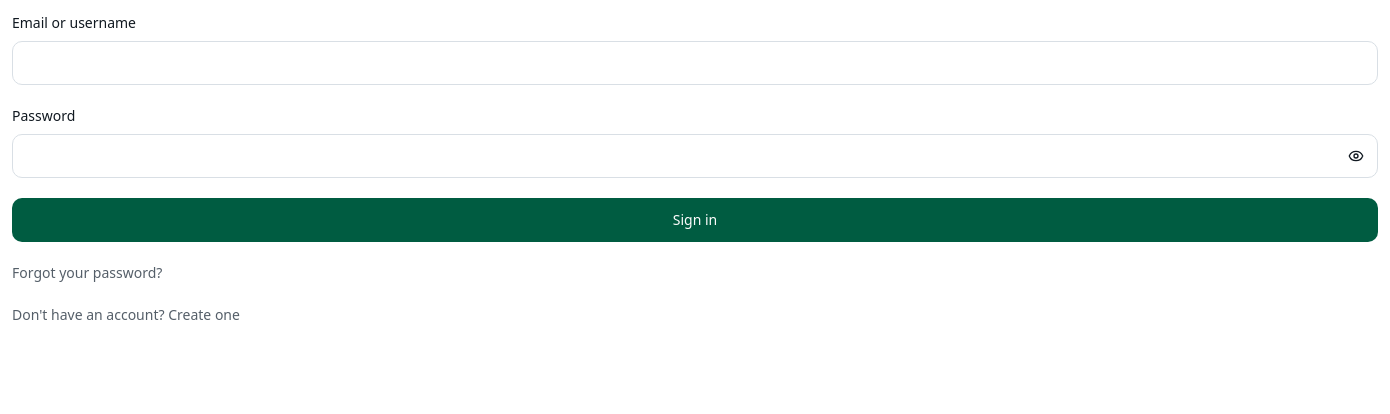
it: LoginForm › loginForm_rejectedCredentials_leavesTheUnconfirmedMarkAlone
Type "ruben" into the field labelled "Email or username" at (695, 63), box top-left (12, 41), bottom-right (1378, 85)
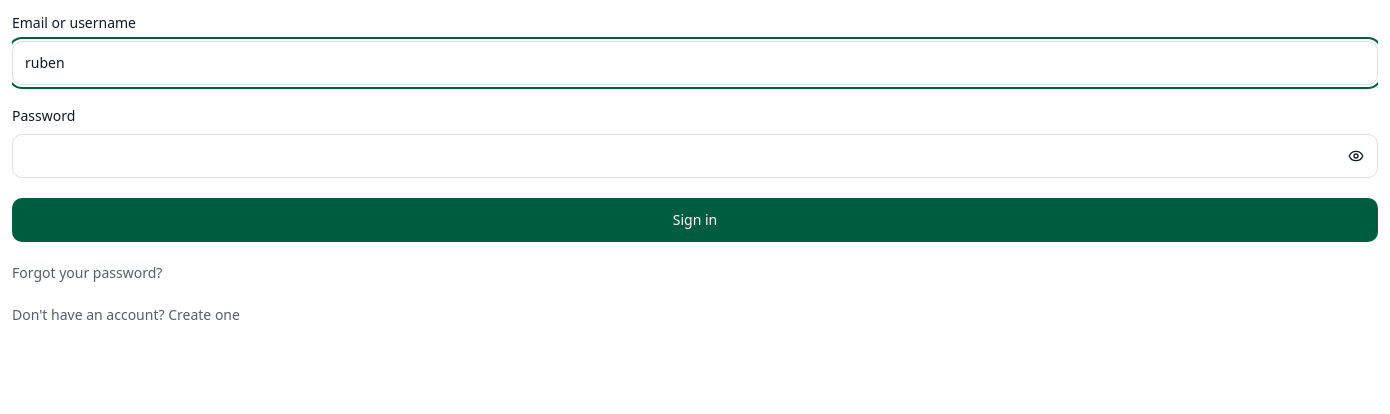
Type "secret1234" into the password field labelled "Password" at (695, 156), box top-left (12, 134), bottom-right (1378, 178)
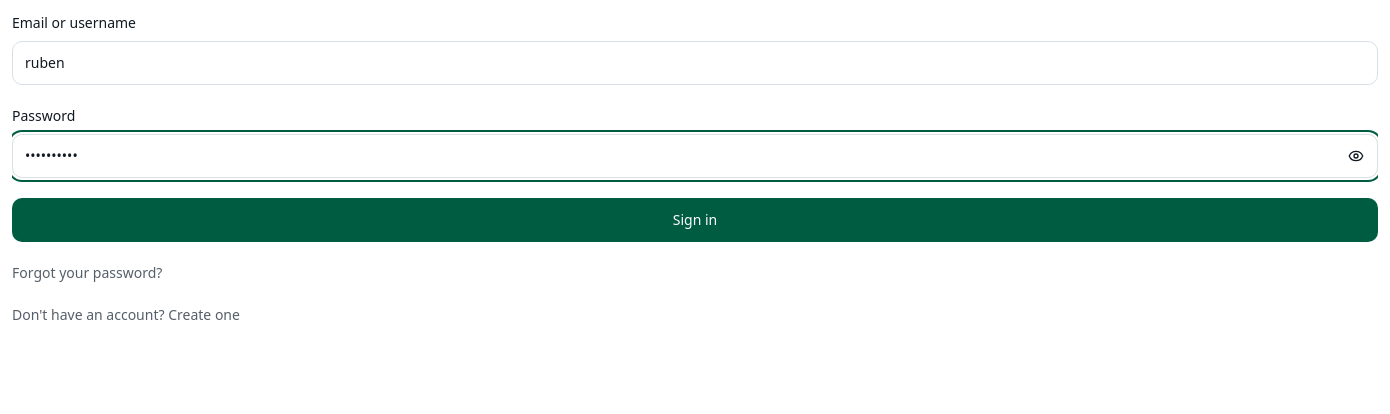
Click the button "Sign in" at (695, 220), box top-left (12, 198), bottom-right (1378, 242)
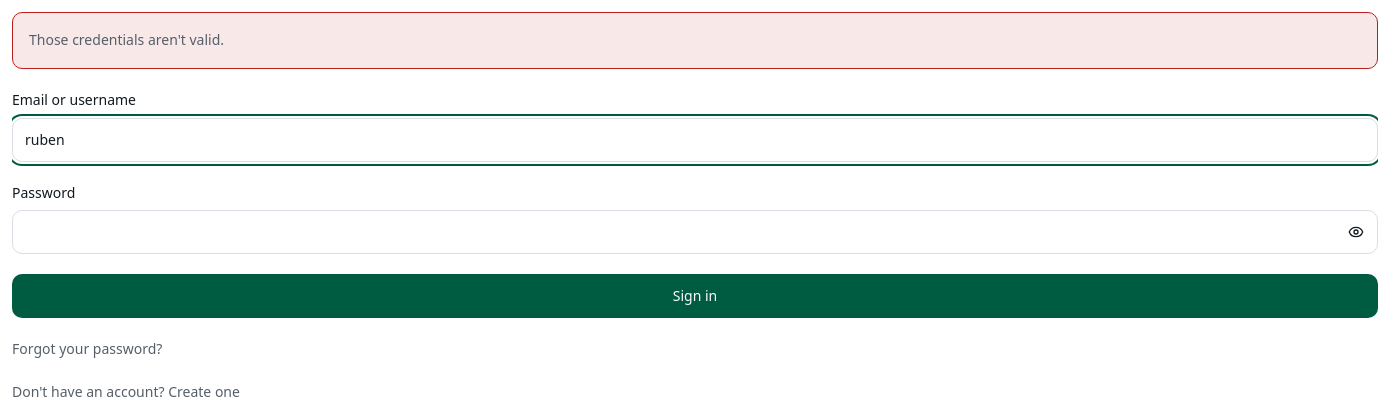
Expected: the message "Those credentials aren't valid." is shown, top-left (12, 12), bottom-right (1378, 69)
